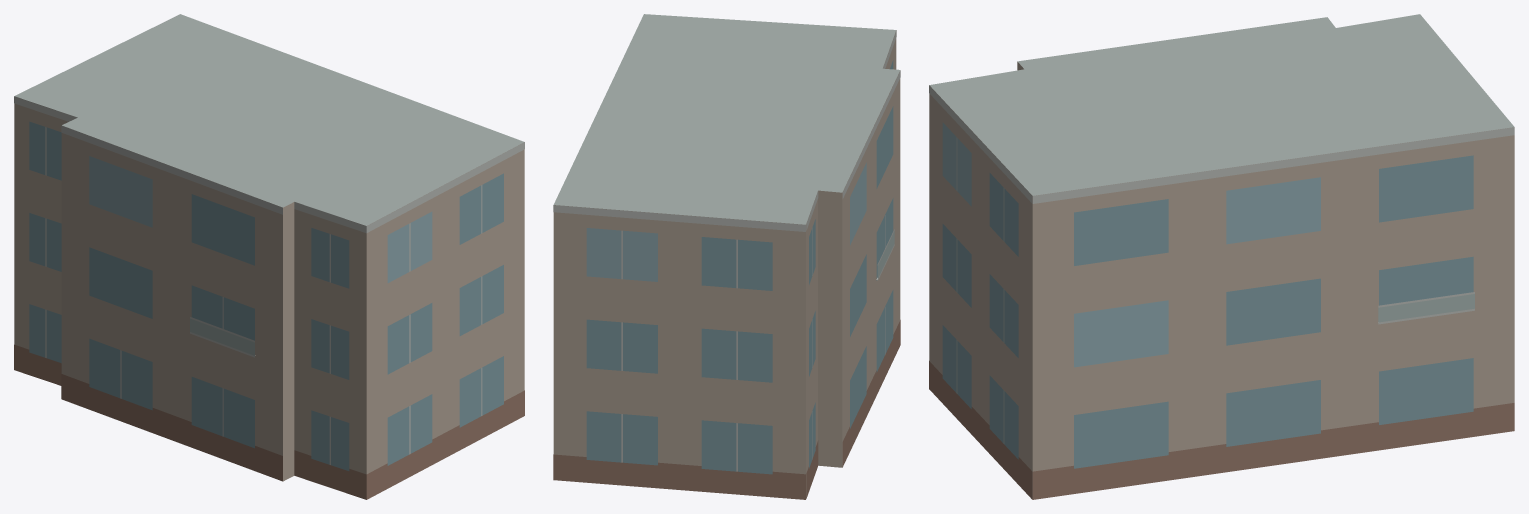
Rendered from survey-upis-32709101.glb.
3 views of the same model, side by side, from view 1: azimuth 30°, elevation 25°; view 2: azimuth 150°, elevation 25°; view 3: azimuth 270°, elevation 25° (orthographic). The views are drawn at different scales.
Parts seen in each view (by area): view 1: survey-upis-32709101.tmp; view 2: survey-upis-32709101.tmp; view 3: survey-upis-32709101.tmp.
Part boxes in pixels (x1=…): survey-upis-32709101.tmp: x1=14, y1=14, x2=524, y2=499; survey-upis-32709101.tmp: x1=553, y1=14, x2=900, y2=499; survey-upis-32709101.tmp: x1=929, y1=14, x2=1514, y2=499.
Size of the model in its own units: 11.75 by 9.15 by 15.98.
